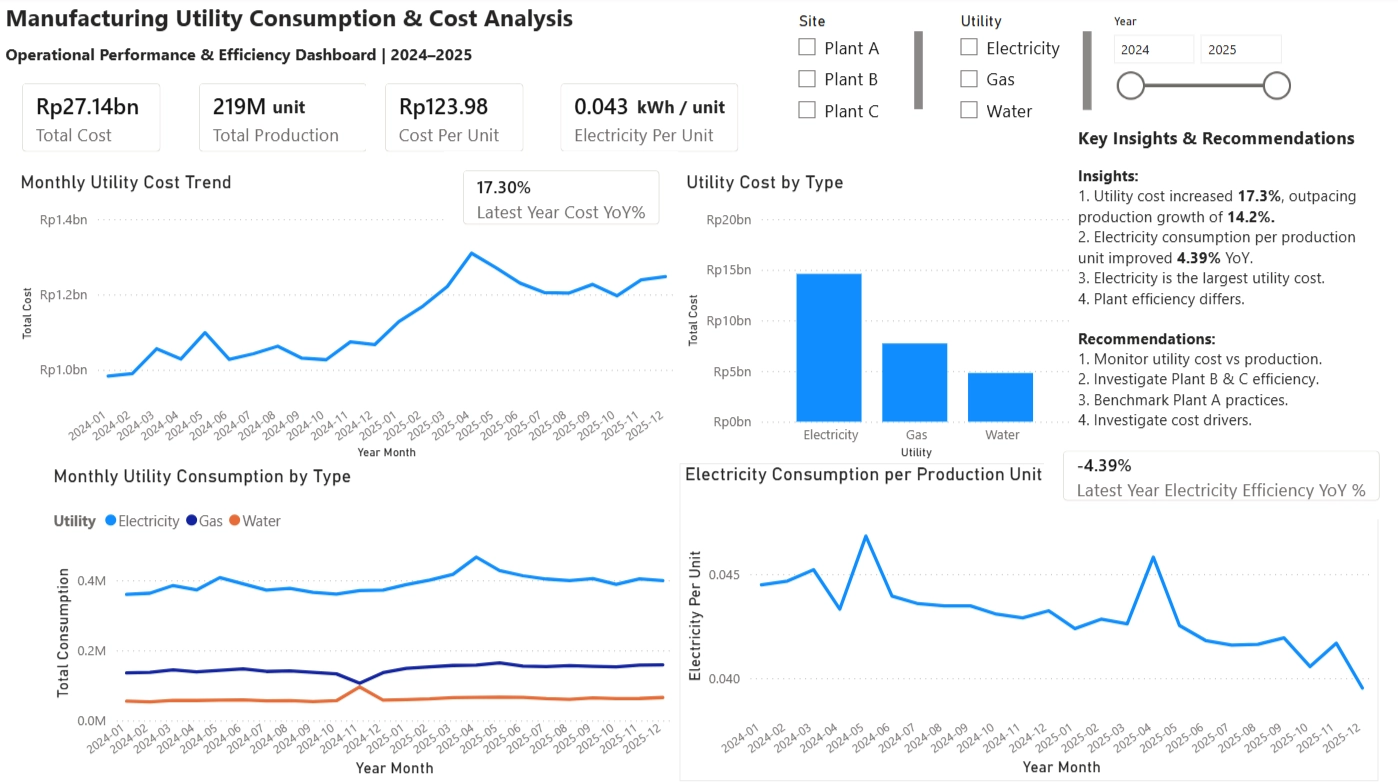

What the dashboard file says about the page in this screenshot:
{"tool":"powerbi","page":{"name":"Page 1","canvas":[1280,720],"ordinal":0},"visuals":[{"type":"cardVisual","fields":{"Data":["Utility_Data.Total Cost"]},"box":[2.9,62.9,161.4,97.1],"z":0},{"type":"cardVisual","fields":{"Data":["Utility_Data.Total Production"]},"box":[164.3,62.9,188.6,97.1],"z":1000},{"type":"cardVisual","fields":{"Data":["Utility_Data.Cost Per Unit"]},"box":[334.3,62.9,161.4,97.1],"z":2000},{"type":"cardVisual","fields":{"Data":["Utility_Data.Electricity Per Unit"]},"box":[495.7,62.9,197.1,97.1],"z":3000},{"type":"lineChart","title":"Monthly Utility Cost Trend","fields":{"Category":["DateTable.Year Month"],"Y":["Utility_Data.Total Cost"]},"box":[14.3,160,608.6,268.6],"z":4000},{"type":"clusteredColumnChart","title":"Utility Cost by Type","fields":{"Category":["Utility_Data.Utility"],"Y":["Utility_Data.Total Cost"]},"box":[622.9,160,361.4,268.6],"z":5000},{"type":"lineChart","title":"Monthly Utility Consumption by Type","fields":{"Category":["DateTable.Year Month"],"Series":["Utility_Data.Utility"],"Y":["Utility_Data.Total Consumption"]},"box":[44.3,430,575.7,290],"z":6000},{"type":"lineChart","title":"Electricity Consumption per Production Unit","fields":{"Category":["DateTable.Year Month"],"Y":["Utility_Data.Electricity Per Unit"]},"box":[622.3,428.5,639,290.7],"z":7000},{"type":"slicer","fields":{"Values":["Utility_Data.Site"]},"box":[718.3,10,131.7,111.7],"z":8000},{"type":"slicer","fields":{"Values":["Utility_Data.Utility"]},"box":[866.5,10.3,137.8,112.1],"z":9000},{"type":"slicer","fields":{"Values":["DateTable.Year"]},"box":[1006.3,12.3,183.2,93.9],"z":10000},{"type":"textbox","box":[0,0,541.7,38.3],"z":11000},{"type":"textbox","box":[0,38.3,440,30],"z":12000},{"type":"cardVisual","fields":{"Data":["Utility_Data.Latest Year Cost YoY%"]},"box":[405.7,142.9,214.3,84.3],"z":13000},{"type":"textbox","box":[981.2,113.9,277.2,32.9],"z":15000},{"type":"textbox","box":[981.2,149.6,277.2,259.4],"z":16000},{"type":"cardVisual","fields":{"Data":["Utility_Data.Latest Year Electricity Efficiency YoY %"]},"box":[955.7,400,324.3,80],"z":16500},{"type":"textbox","box":[575,85.1,96.1,37.1],"z":16501},{"type":"textbox","box":[244.3,85.1,61.8,35.7],"z":16502}]}

Visuals, with their boxes in screenshot pixels (x1, y1, x2, y2), scaled from the page's 1280x720 canvas onto the 1398x782 screenshot:
cardVisual - Utility_Data.Total Cost: Rect(3, 68, 179, 174)
cardVisual - Utility_Data.Total Production: Rect(179, 68, 385, 174)
cardVisual - Utility_Data.Cost Per Unit: Rect(365, 68, 541, 174)
cardVisual - Utility_Data.Electricity Per Unit: Rect(541, 68, 757, 174)
"Monthly Utility Cost Trend" lineChart: Rect(16, 174, 680, 466)
"Utility Cost by Type" clusteredColumnChart: Rect(680, 174, 1075, 466)
"Monthly Utility Consumption by Type" lineChart: Rect(48, 467, 677, 781)
"Electricity Consumption per Production Unit" lineChart: Rect(680, 465, 1378, 781)
slicer - Utility_Data.Site: Rect(785, 11, 928, 132)
slicer - Utility_Data.Utility: Rect(946, 11, 1097, 133)
slicer - DateTable.Year: Rect(1099, 13, 1299, 115)
textbox: Rect(0, 0, 592, 42)
textbox: Rect(0, 42, 481, 74)
cardVisual - Utility_Data.Latest Year Cost YoY%: Rect(443, 155, 677, 247)
textbox: Rect(1072, 124, 1374, 159)
textbox: Rect(1072, 162, 1374, 444)
cardVisual - Utility_Data.Latest Year Electricity Efficiency YoY %: Rect(1044, 434, 1397, 521)
textbox: Rect(628, 92, 733, 133)
textbox: Rect(267, 92, 334, 131)
